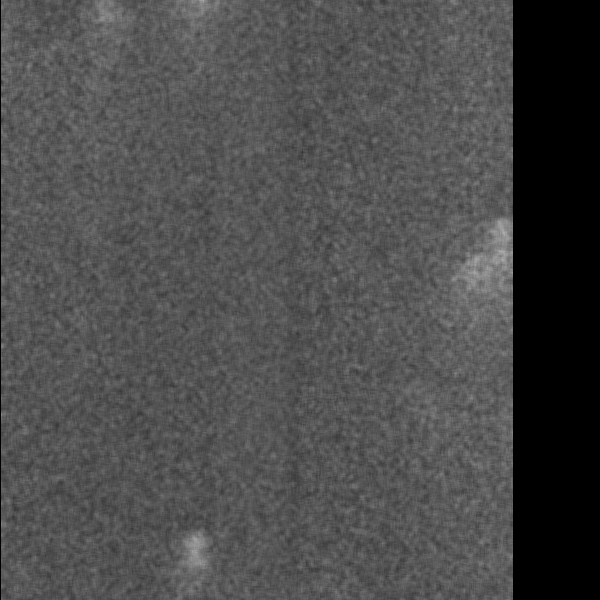spark: (487, 212, 511, 362), (76, 1, 133, 64), (184, 527, 207, 599)
